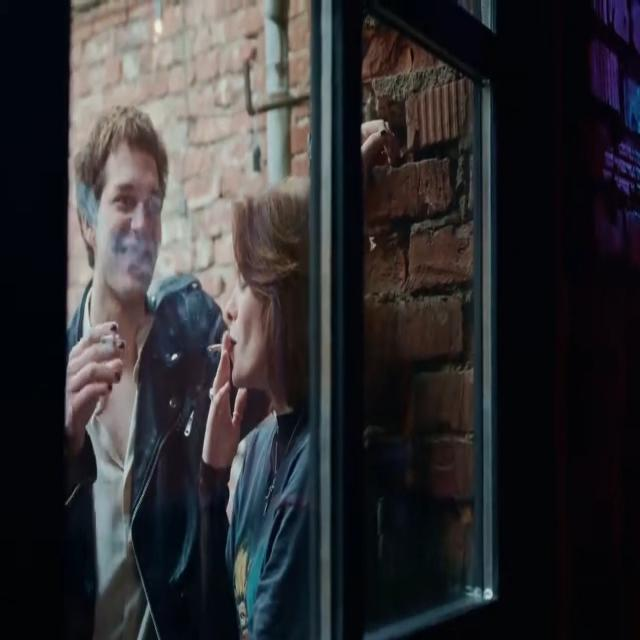Курение: (206, 340, 226, 354)
